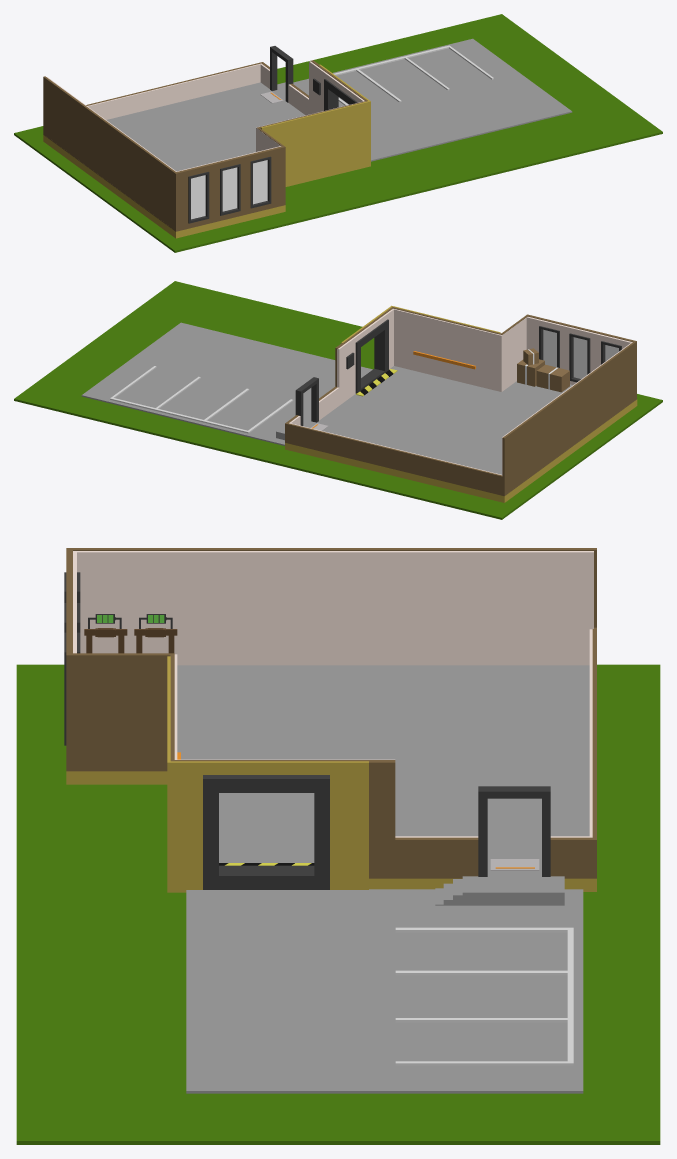
Rendered from warehouse2.glb.
3 renders of one model, top to bottom at view 1: azimuth 30°, elevation 25°; view 2: azimuth 150°, elevation 25°; view 3: azimuth 270°, elevation 25°, orthographic. The views are drawn at different scales.
Parts seen in each view (by area): view 1: Cube.034, Cube.035, Cube.010, Cube.008, Cube.023, Cube.022, Plane, Cube.009, Cube.036, Cube.030, Cube.014, Cube.032 (+2 smaller); view 2: Cube.034, Cube.035, Cube.008, Cube.010, Cube.022, Cube.009, Cube.014, Plane, Cube.036, Cube.026, Cube.030, Cube.024 (+1 smaller); view 3: Cube.034, Cube.035, Cube.008, Cube.022, Cube.010, Cube.023, Cube.014, Cube.036, Cube.009, Cube.030.
Boxes of the visible parts, x1,y1,x2,y2 form: Cube.034: [14, 14, 662, 252]; Cube.035: [293, 38, 572, 161]; Cube.010: [43, 60, 367, 231]; Cube.008: [106, 82, 305, 171]; Cube.023: [261, 64, 370, 186]; Cube.022: [47, 61, 364, 171]; Plane: [191, 160, 267, 219]; Cube.009: [43, 135, 285, 238]; Cube.036: [333, 45, 493, 105]; Cube.030: [270, 46, 293, 102]; Cube.014: [324, 79, 357, 110]; Cube.032: [250, 156, 271, 208]; Cube.034: [14, 281, 662, 519]; Cube.035: [81, 322, 372, 445]; Cube.008: [276, 366, 572, 474]; Cube.010: [285, 307, 636, 496]; Cube.022: [289, 308, 632, 475]; Cube.009: [285, 399, 637, 502]; Cube.014: [355, 319, 388, 393]; Plane: [543, 329, 618, 378]; Cube.036: [110, 366, 293, 433]; Cube.026: [536, 364, 569, 392]; Cube.030: [295, 377, 318, 425]; Cube.024: [517, 359, 544, 386]; Cube.034: [16, 664, 660, 1144]; Cube.035: [186, 889, 583, 1093]; Cube.008: [177, 665, 589, 905]; Cube.022: [73, 551, 593, 837]; Cube.010: [66, 548, 596, 878]; Cube.023: [167, 656, 368, 892]; Cube.014: [203, 775, 329, 889]; Cube.036: [395, 927, 573, 1065]; Cube.009: [66, 771, 596, 891]; Cube.030: [478, 786, 550, 876].
Size of the model in its own units: 140 by 18.35 by 80.
